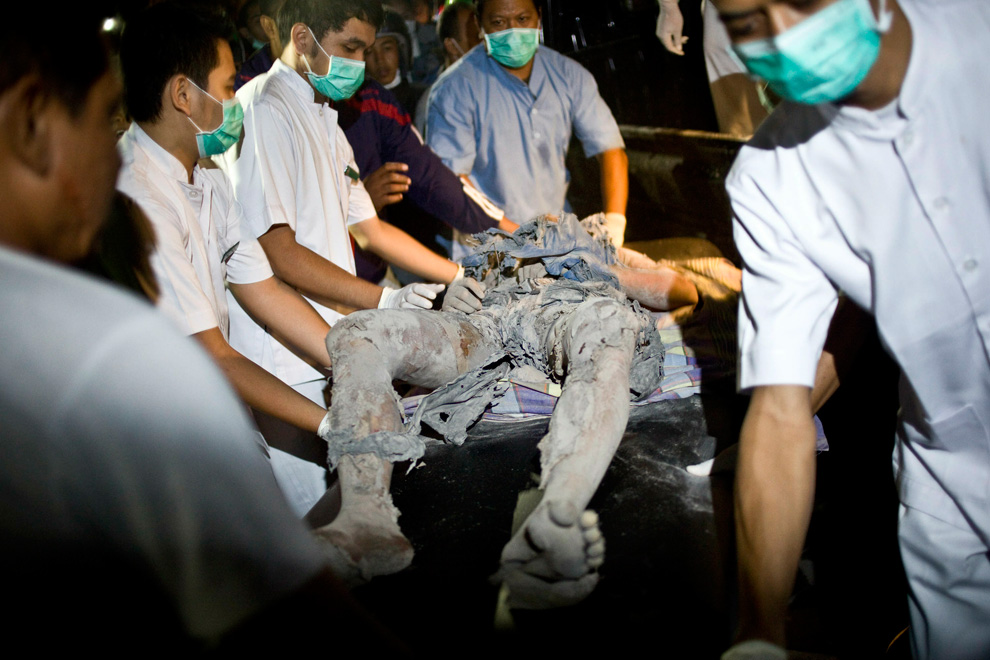BukanKorban: (0, 0, 344, 660), (714, 0, 990, 660), (212, 0, 467, 404), (117, 0, 329, 441), (426, 0, 627, 247), (358, 10, 415, 97)
Korban: (309, 214, 697, 585)
